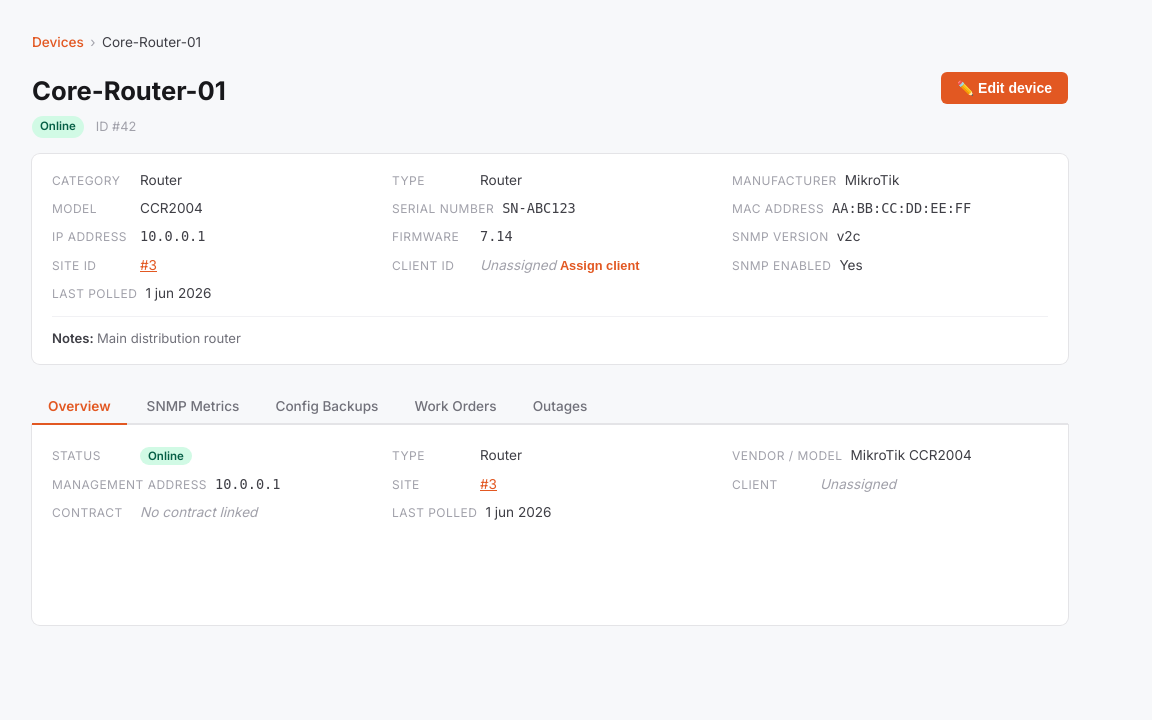
Test: DeviceDetail page › client assignment › a PATCH error (e.g. cross-org 422) keeps edit mode open and shows the error message
The width and height of the screenshot is (1152, 720).
Check: the heading "Core-Router-01" is shown, box [32, 72, 226, 111]
Click the button "Assign client".
click(600, 265)  # box [560, 258, 640, 273]
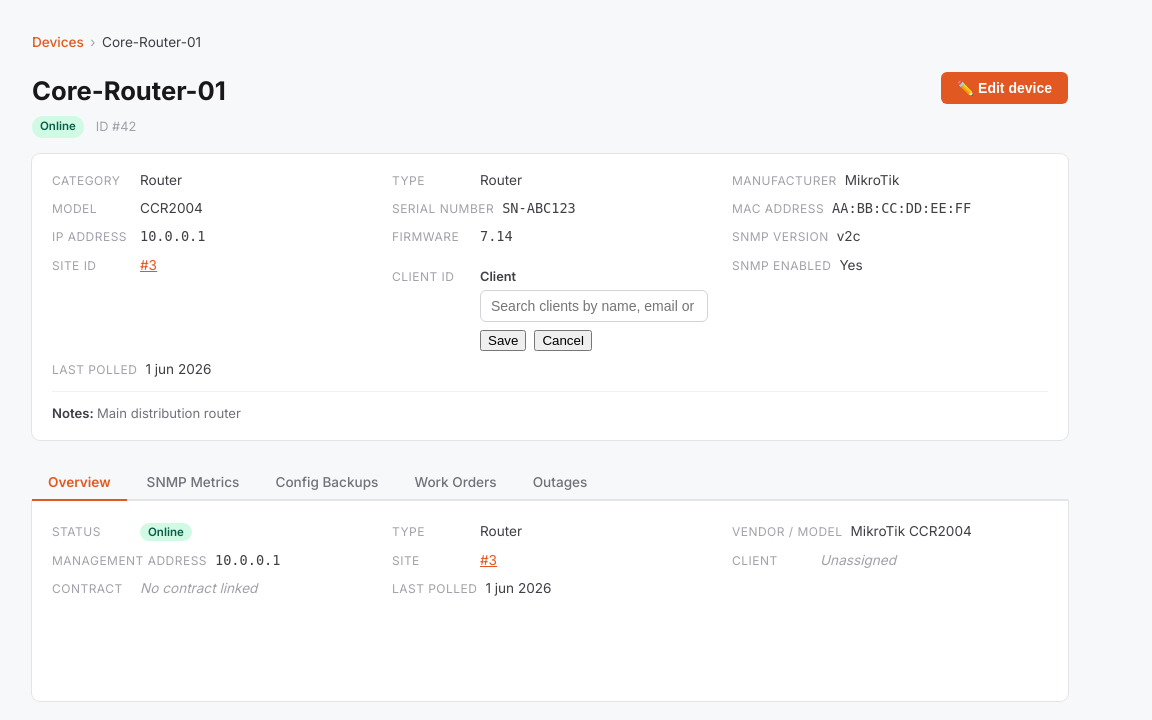
Click the field with placeholder "Search clients by name, email or phone…".
click(594, 306)  # box [480, 290, 708, 322]
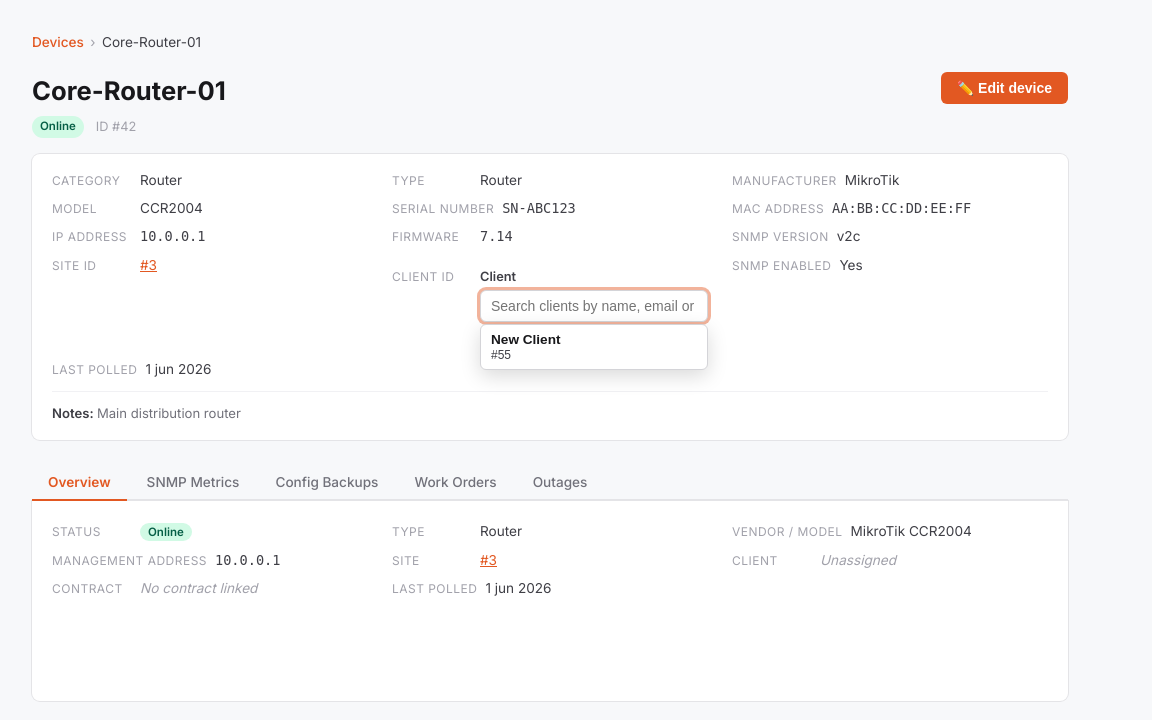
Check: the option "New Client #55" is shown
Click the option "New Client #55".
click(594, 347)  # box [481, 325, 707, 369]
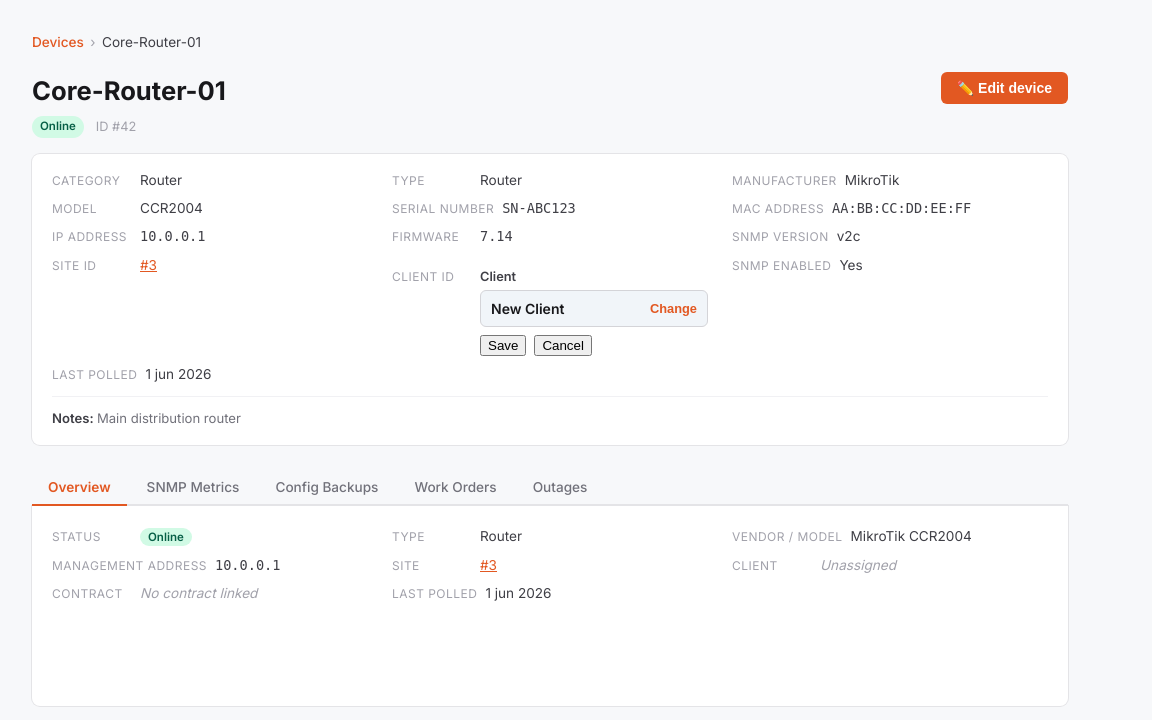
Click the button "Save".
click(503, 346)  # box [480, 335, 526, 356]
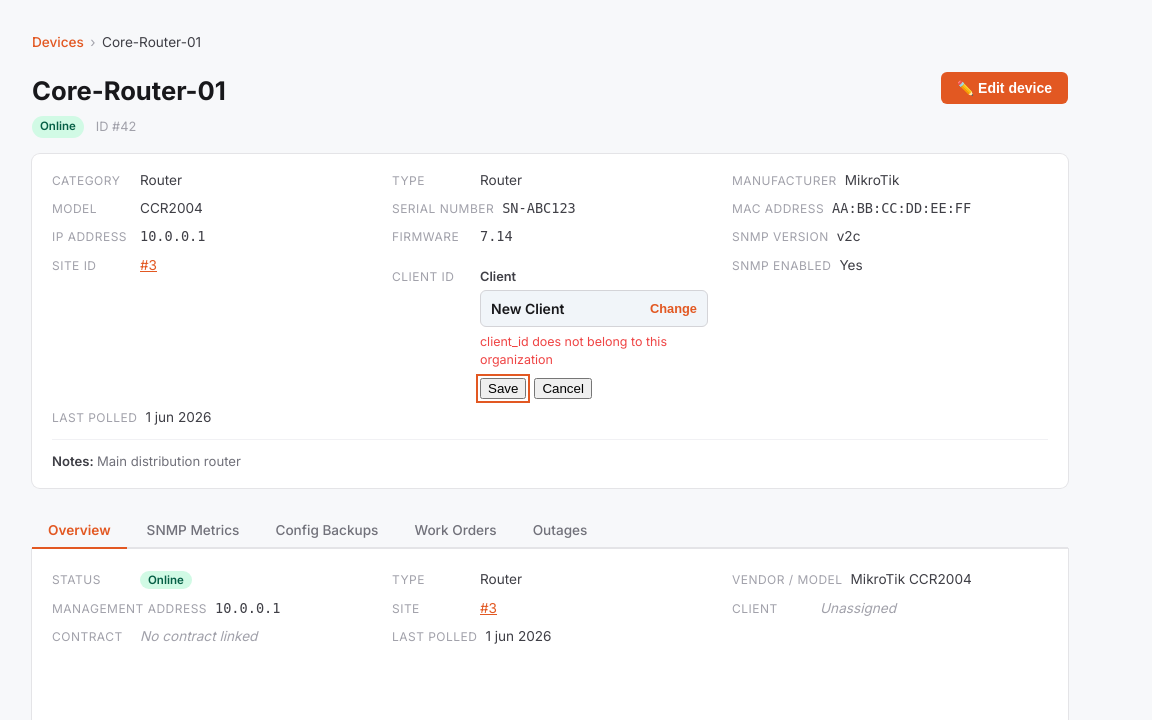
Check: the button "Save" is shown, box [480, 378, 526, 399]
Check: the text "client_id does not belong to this organization" is shown, box [480, 334, 667, 367]
